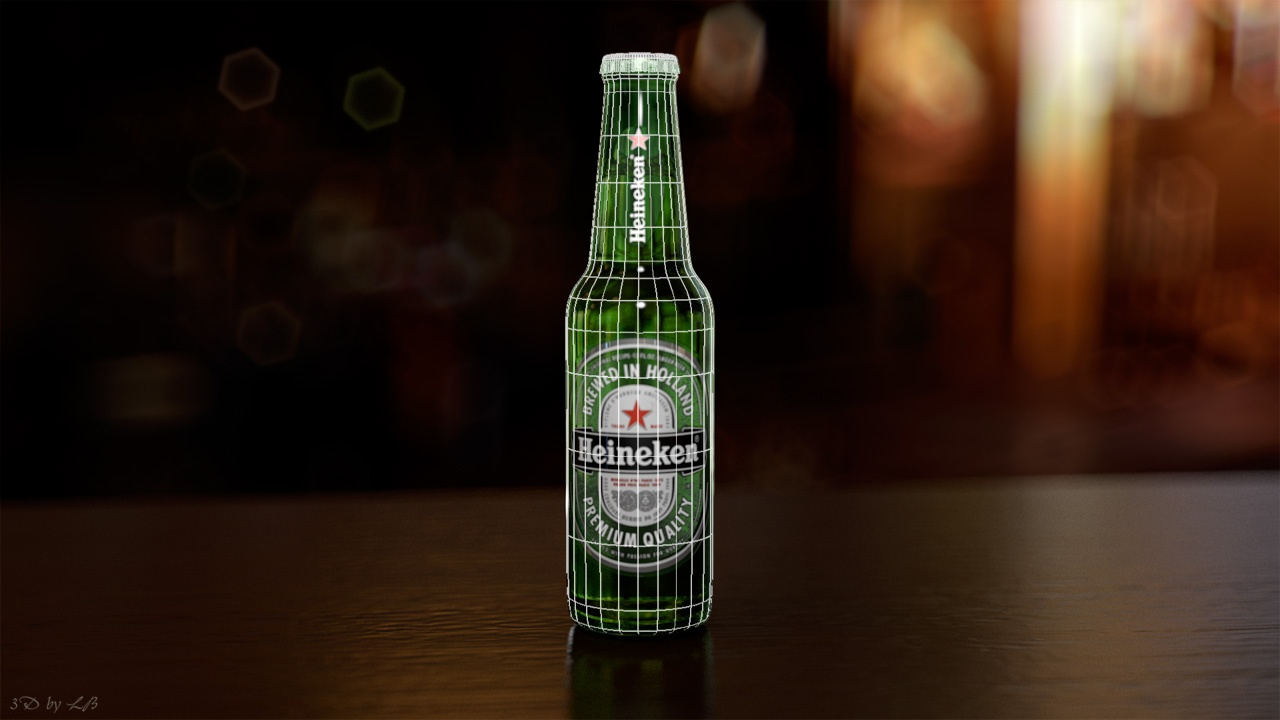beerBottle: (560, 54, 707, 632)
